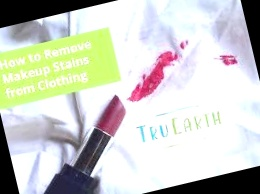lipstick: (142, 48, 184, 80), (131, 69, 170, 102), (125, 81, 160, 104), (211, 51, 241, 77), (175, 36, 193, 54)
